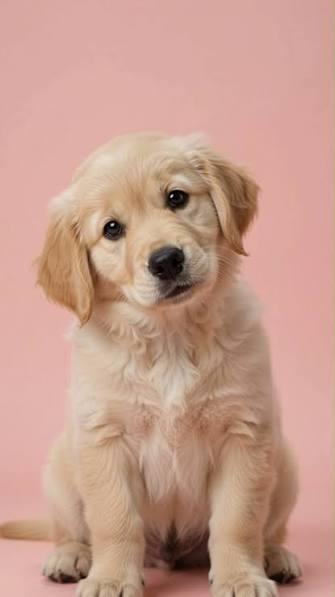puppy-dog: (0, 126, 303, 595)
